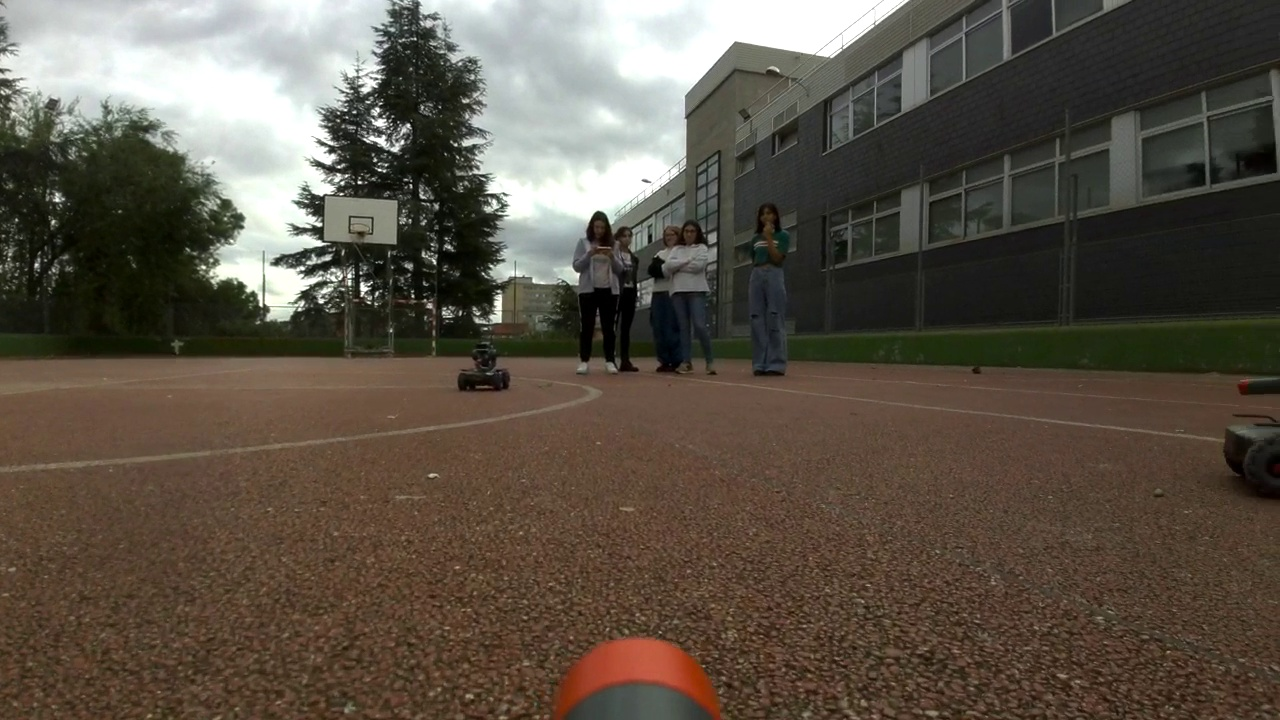robot: (458, 344, 509, 392)
